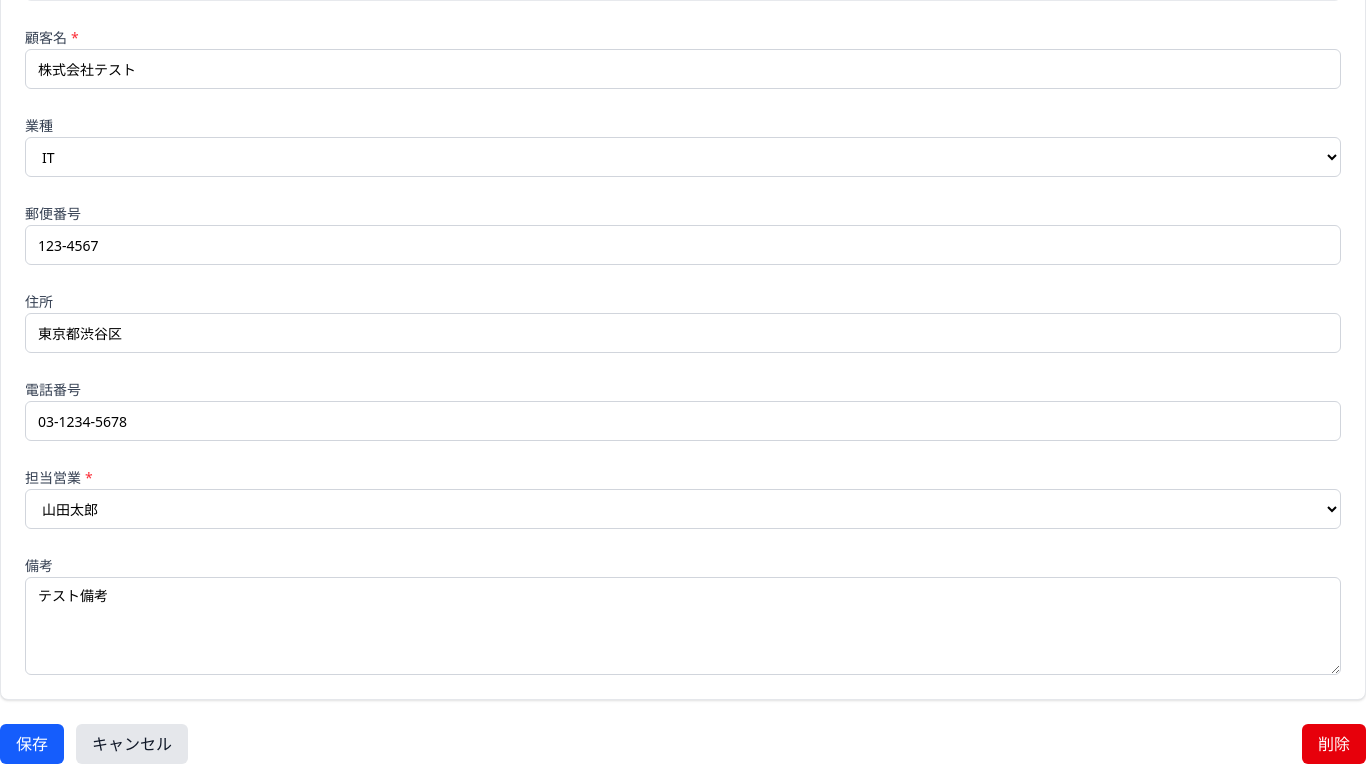
Scenario: CustomerForm › 編集モード › 削除ボタンをクリックすると確認ダイアログが表示される
(page scrolled)
Click the button "削除": (1334, 744) [1302,724,1365,763]
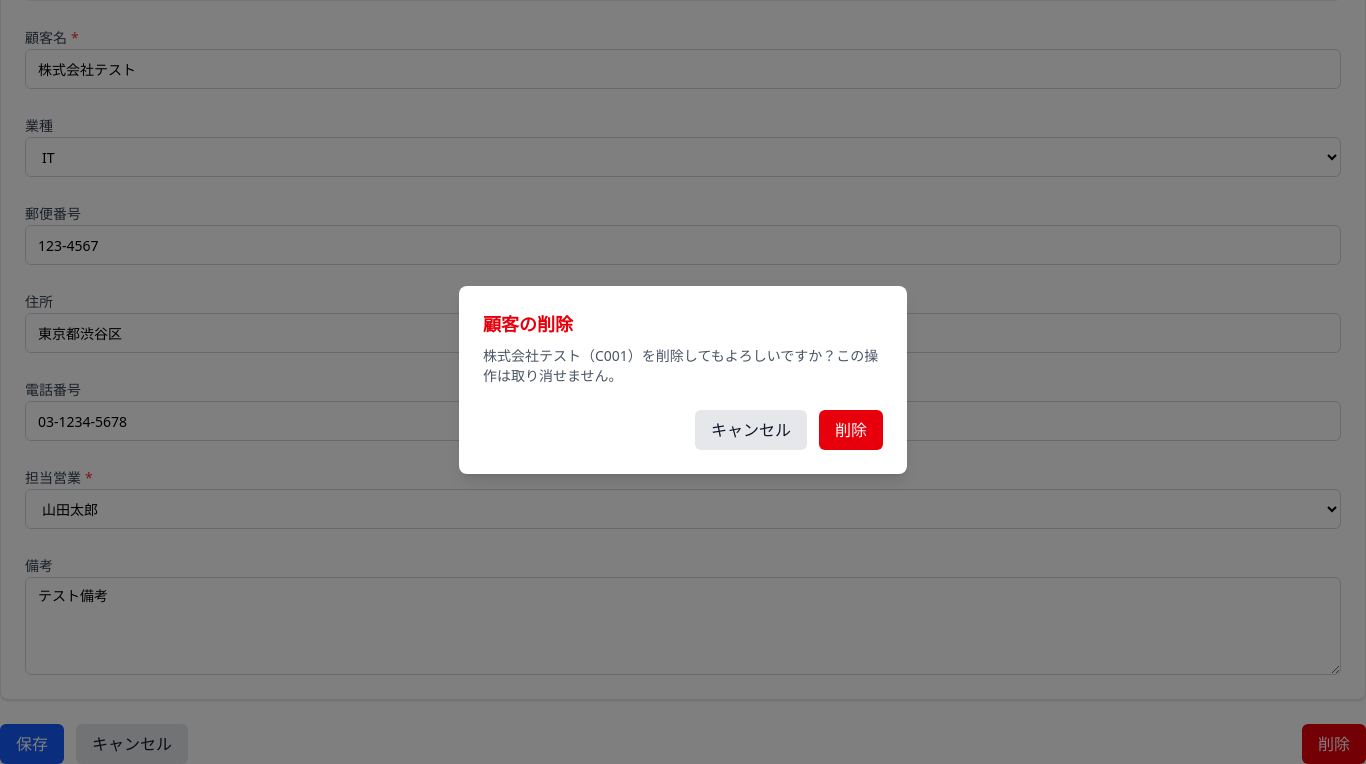
Check: the heading "顧客の削除" is shown, box [483,312,573,336]
Check: the text "株式会社テスト（C001）を削除してもよろしいですか？この操作は取り消せません。" is shown, box [483,346,883,386]
